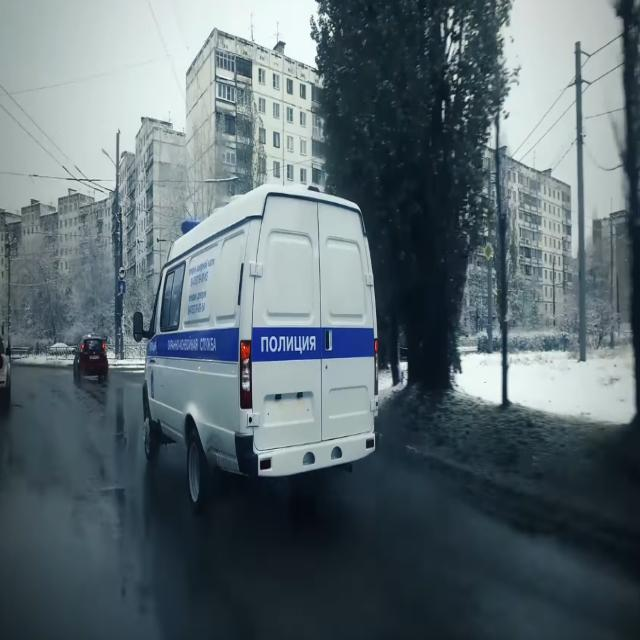non emergency car: (73, 334, 111, 386)
police car: (131, 177, 385, 518)
